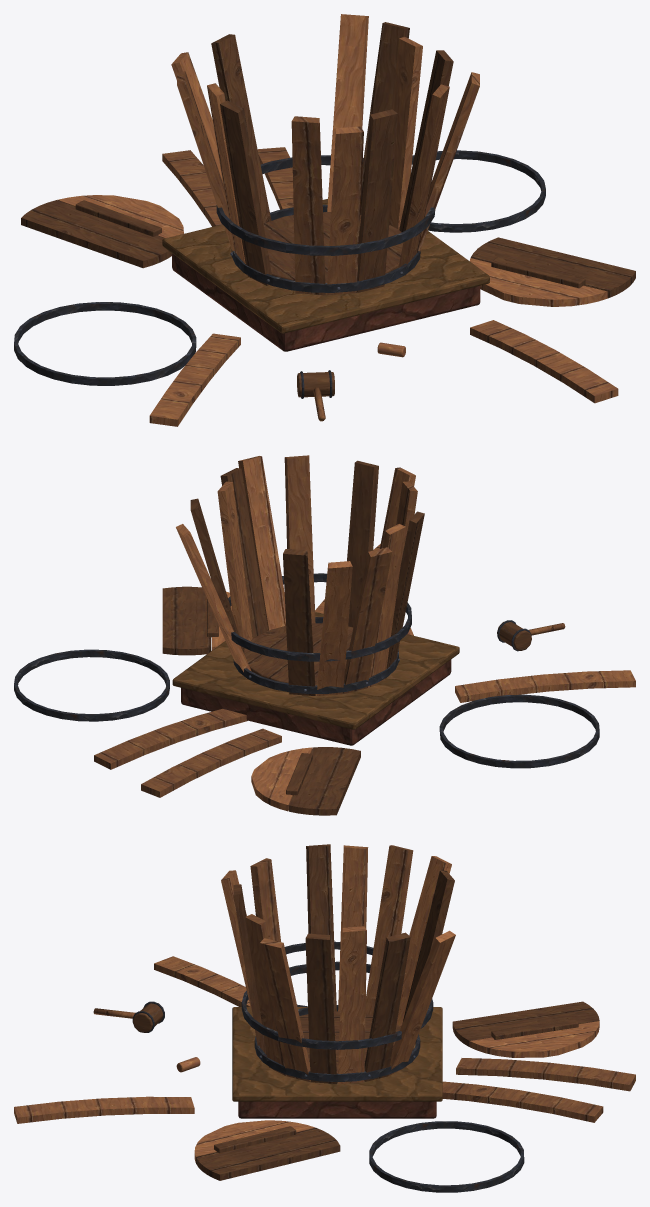
File: rb_vat_burst.glb
3 renders of one model, top to bottom at view 1: azimuth 30°, elevation 25°; view 2: azimuth 150°, elevation 25°; view 3: azimuth 270°, elevation 25°, orthographic. The views are drawn at different scales.
Visible parts, largest first — view 1: model; view 2: model; view 3: model.
Part boxes in pixels (<box>): model: <box>14,14,635,426</box>; model: <box>14,455,635,815</box>; model: <box>14,844,635,1192</box>.
Bounding box in the file's own units: 2.92 × 1.05 × 3.13.
Materials: 8 (8 with a texture image).
